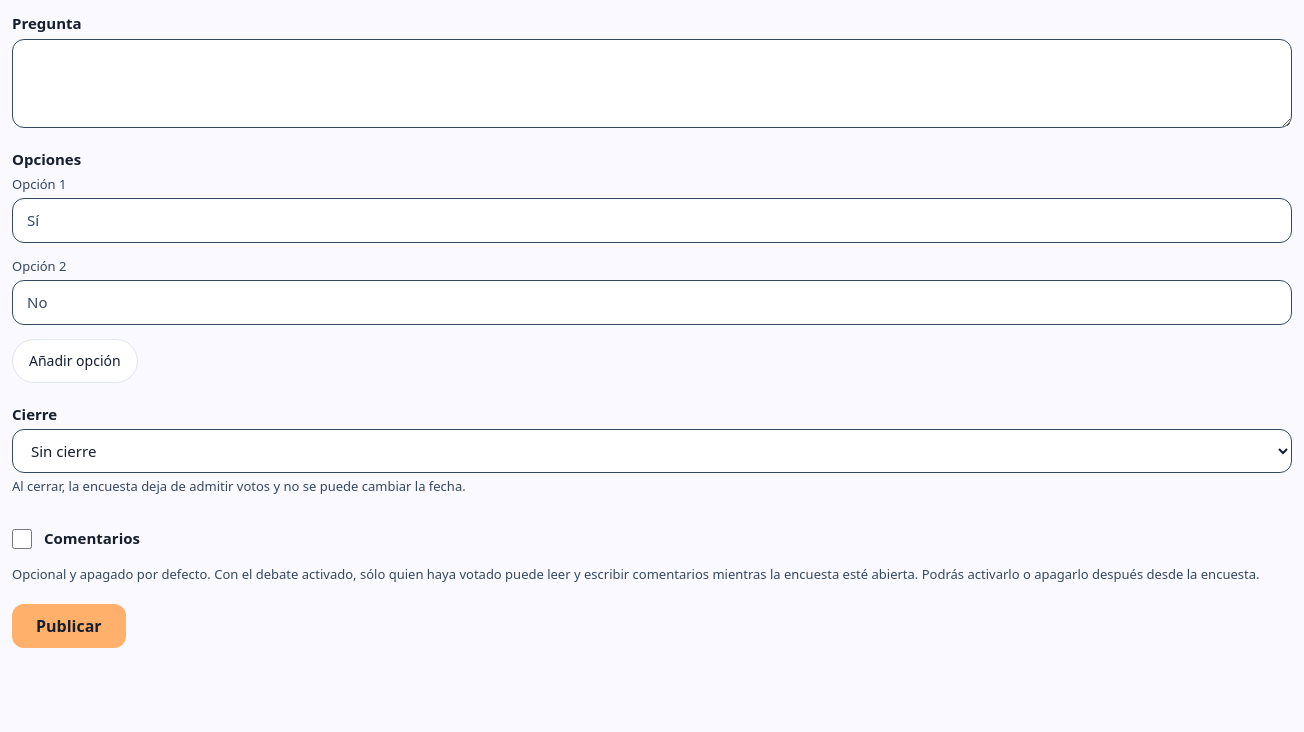
Test: PollCreationForm › no envía y señala los campos con pregunta corta, opción vacía o duplicados
This screenshot has width=1304, height=732.
Step 1. Click the button "Añadir opción" → x=75, y=360, box [12,338,138,382]
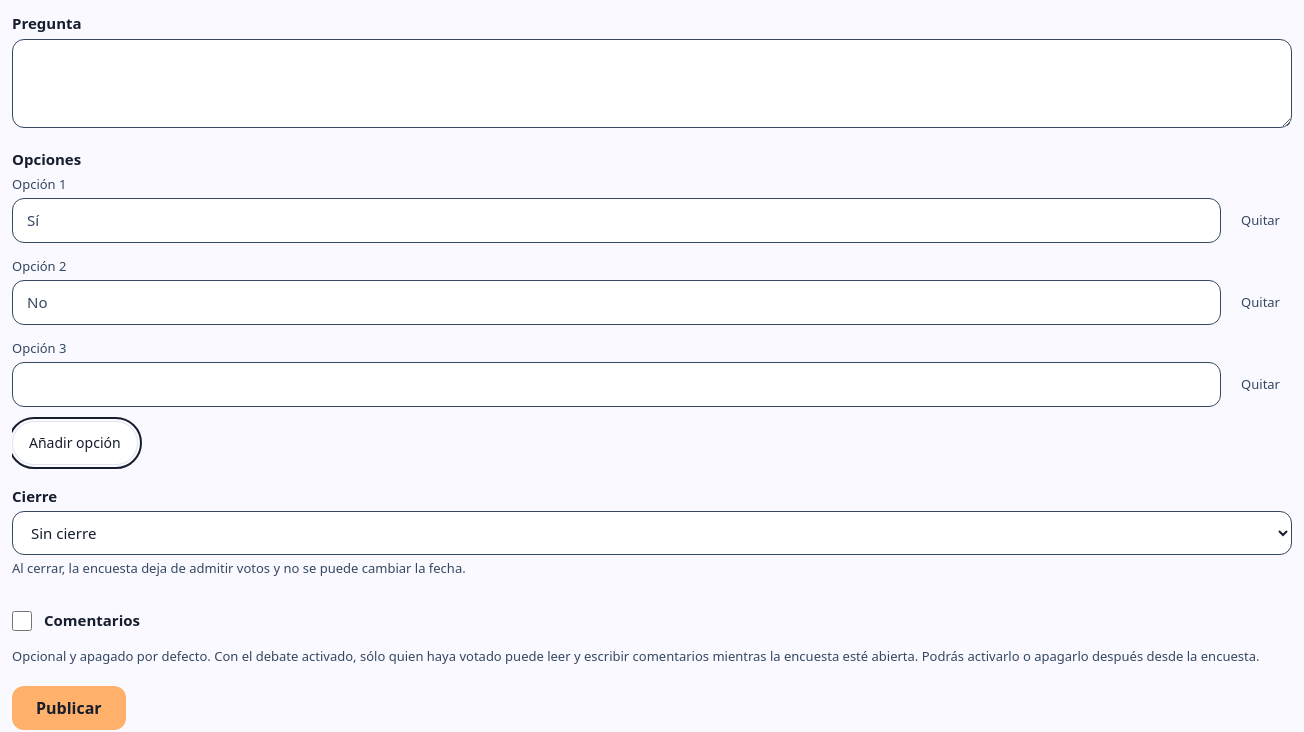
Step 2. Type "Corta" into the text box labelled "Pregunta" → x=652, y=83, box [12,38,1292,128]
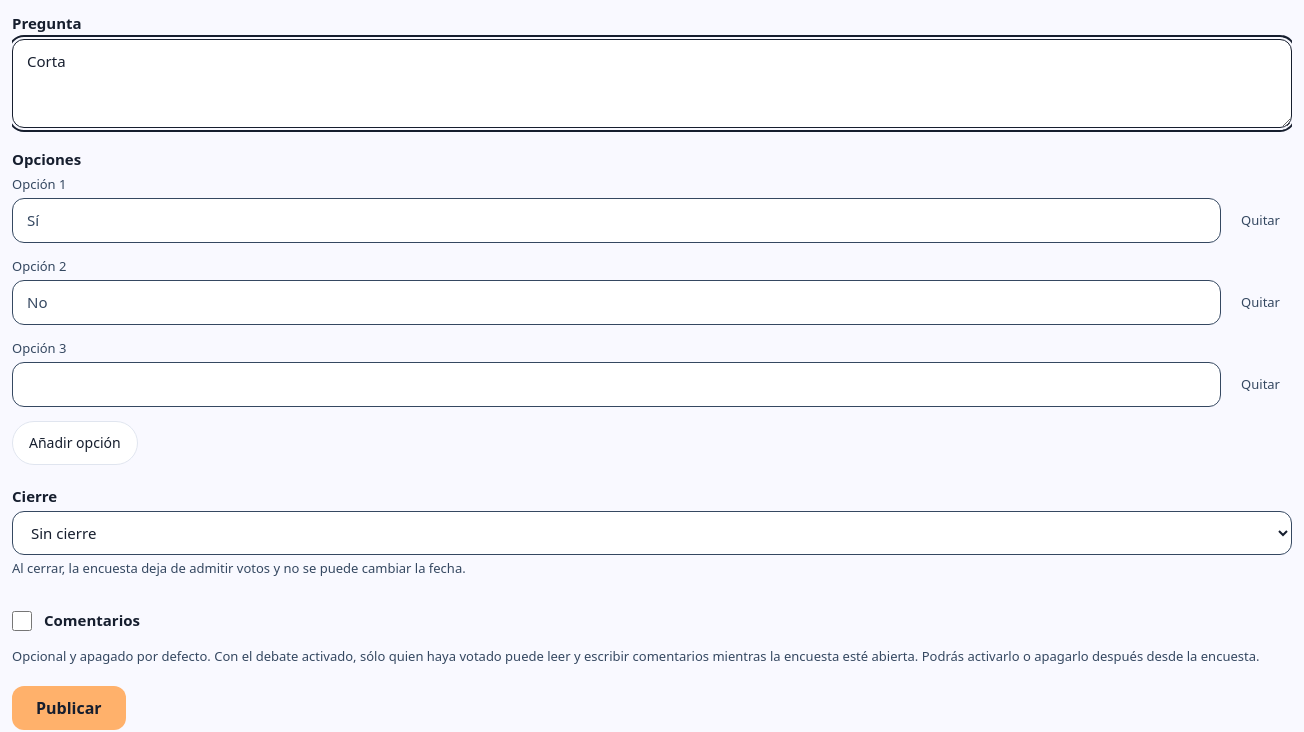
Step 3. Type "Café" into the field labelled "Opción 1" → x=617, y=220, box [12,198,1221,242]
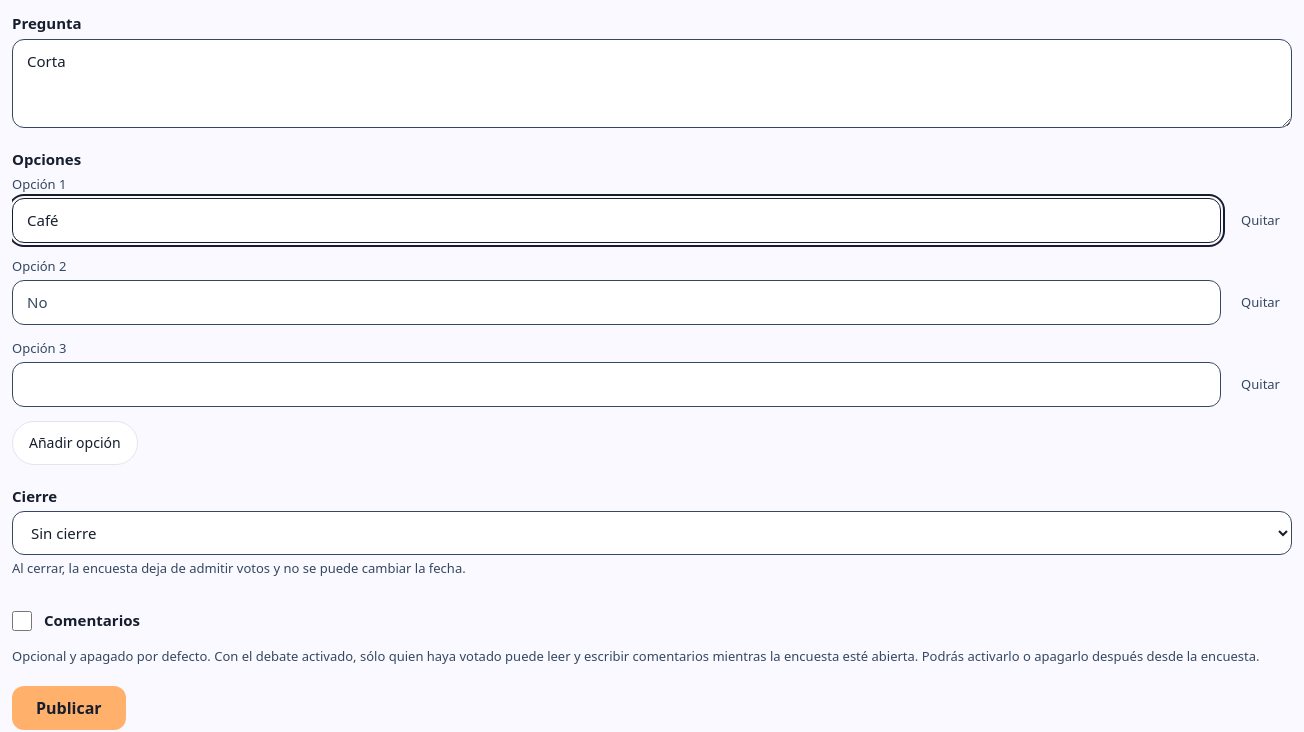
Step 4. Type "café" into the field labelled "Opción 2" → x=617, y=302, box [12,280,1221,324]
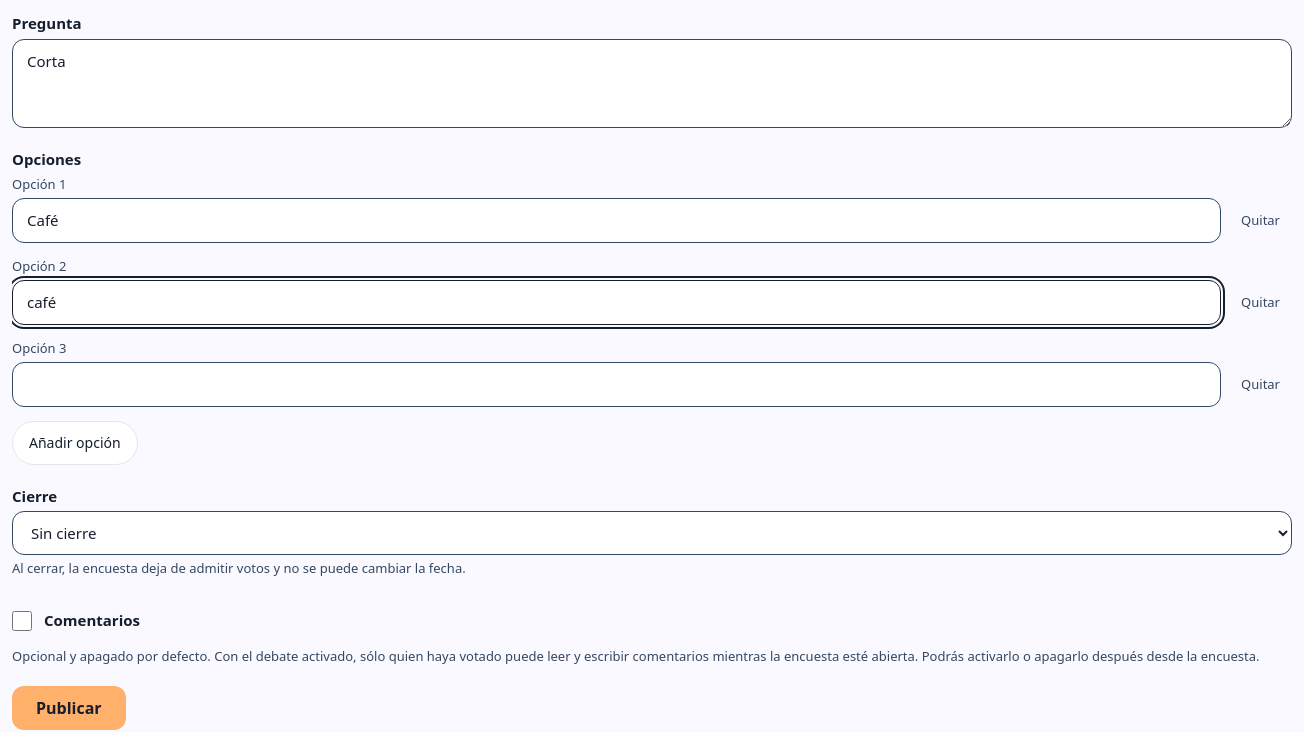
Step 5. Click the button "Publicar" → x=69, y=708, box [12,686,126,730]
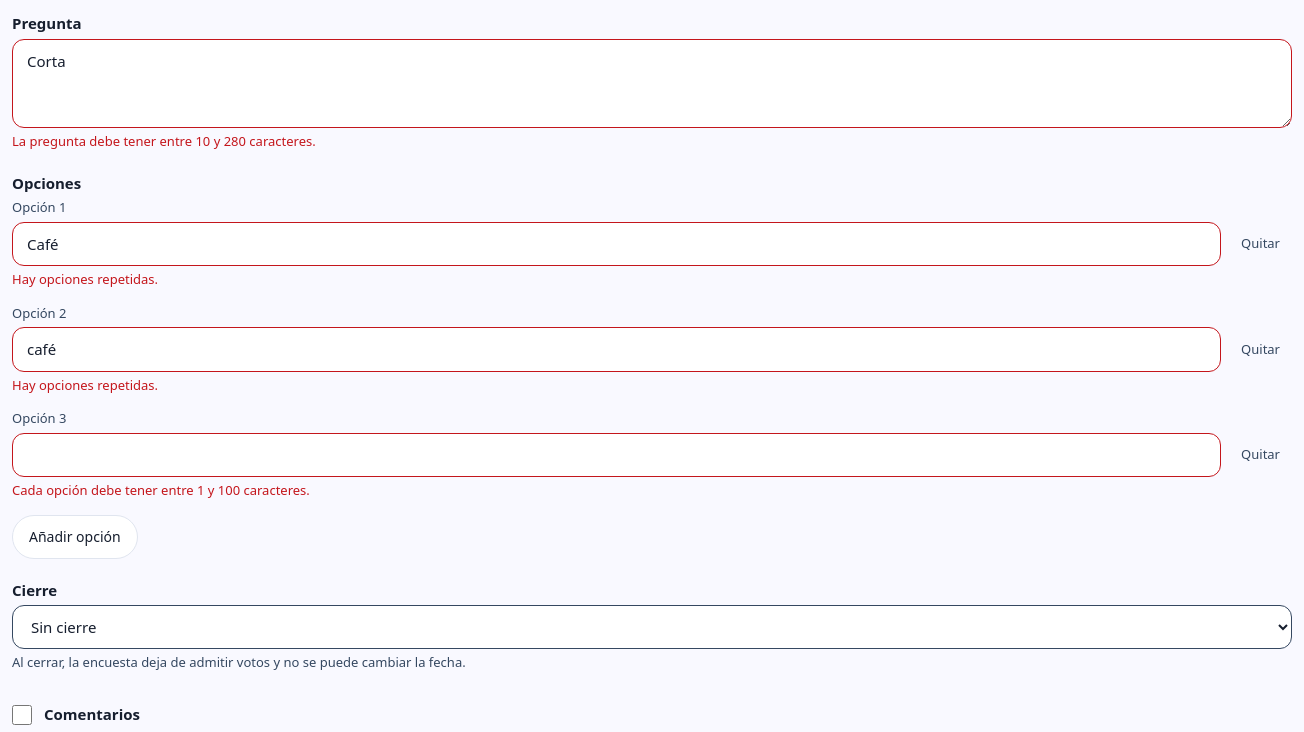
Now the text "Hay opciones repetidas." is shown 2 times, box [12,270,158,288]; [12,376,158,394]
Now the text "Cada opción debe tener entre 1 y 100 caracteres." is shown, box [12,481,310,499]
